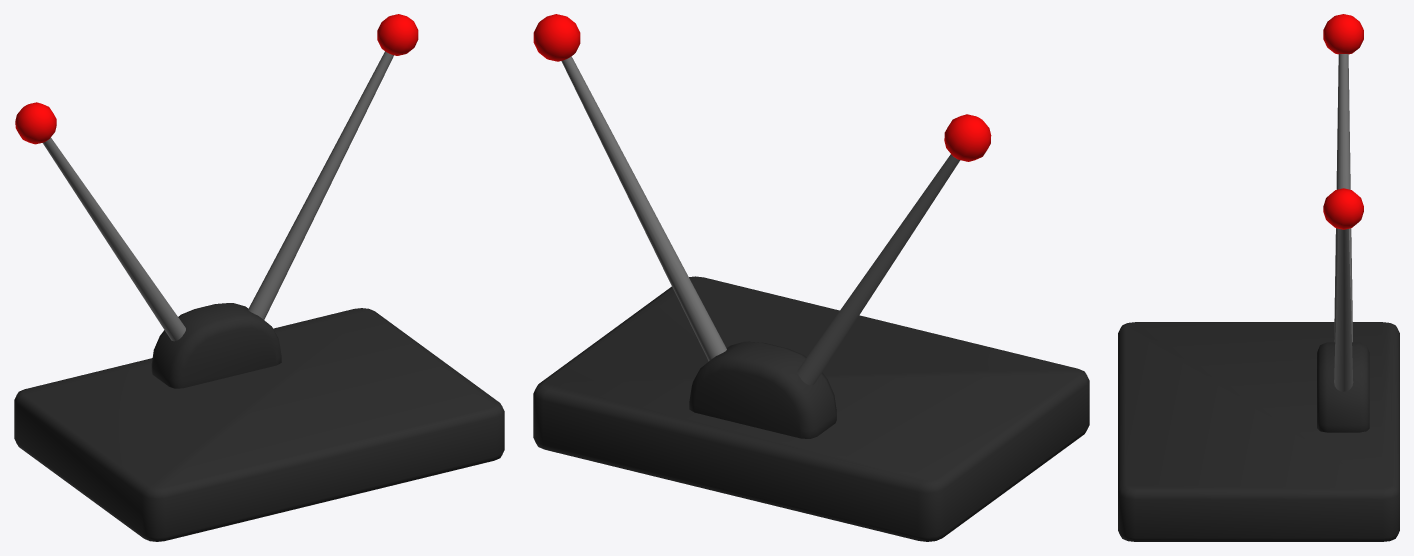
File: Router.fbx
The picture shows the model from 3 angles, left to right: view 1: azimuth 30°, elevation 25°; view 2: azimuth 150°, elevation 25°; view 3: azimuth 270°, elevation 25°; orthographic projection. The views are drawn at different scales.
Parts seen in each view (by area): view 1: Router; view 2: Router; view 3: Router.
Boxes of the visible parts, x1,y1,x2,y2 form: Router: (14,14,504,541); Router: (533,14,1089,541); Router: (1118,14,1399,541).
Bounding box in the file's own units: 221 × 191 × 137.
